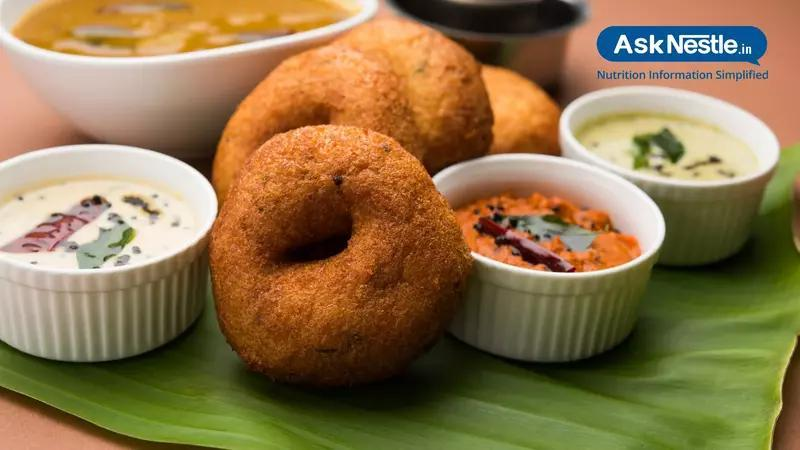mvada: (242, 96, 421, 304)
